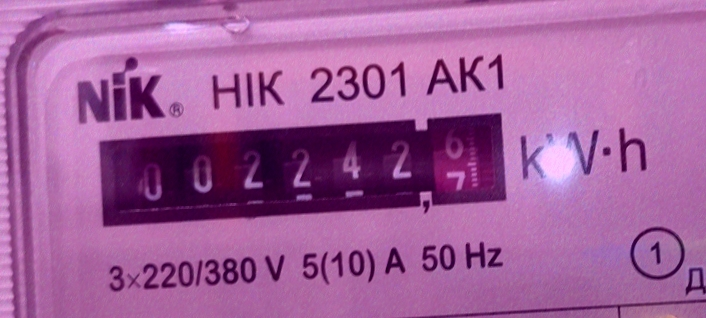0: (188, 150, 215, 193), (240, 146, 266, 190), (140, 157, 164, 202)
2: (387, 136, 414, 180), (289, 144, 314, 189)
4: (338, 136, 363, 181)
6: (441, 125, 467, 159)
7: (444, 168, 468, 191)
screen: (88, 100, 524, 241)
